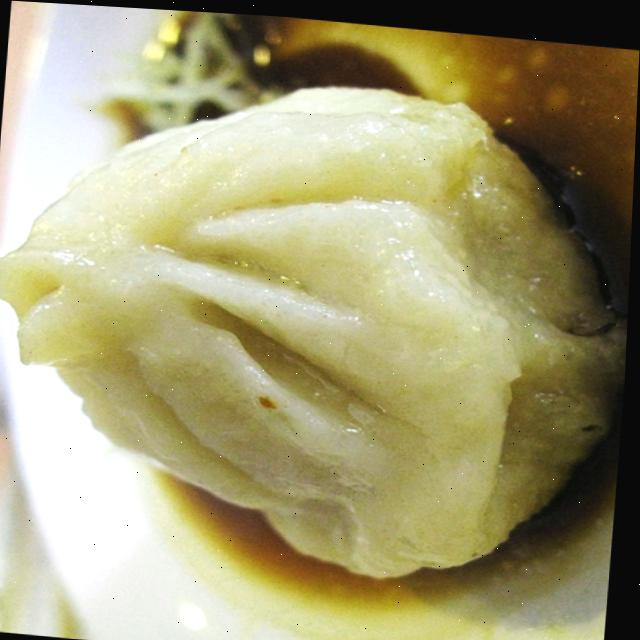带馅早点: (0, 16, 631, 632)
